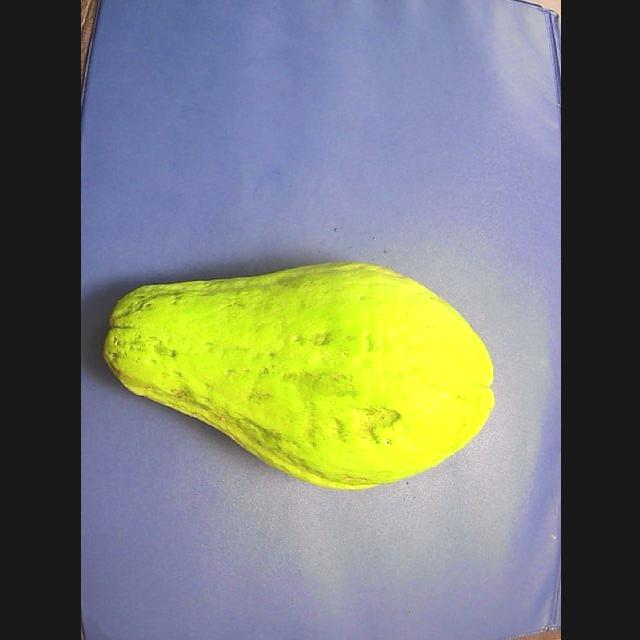chayote: (104, 264, 492, 488)
